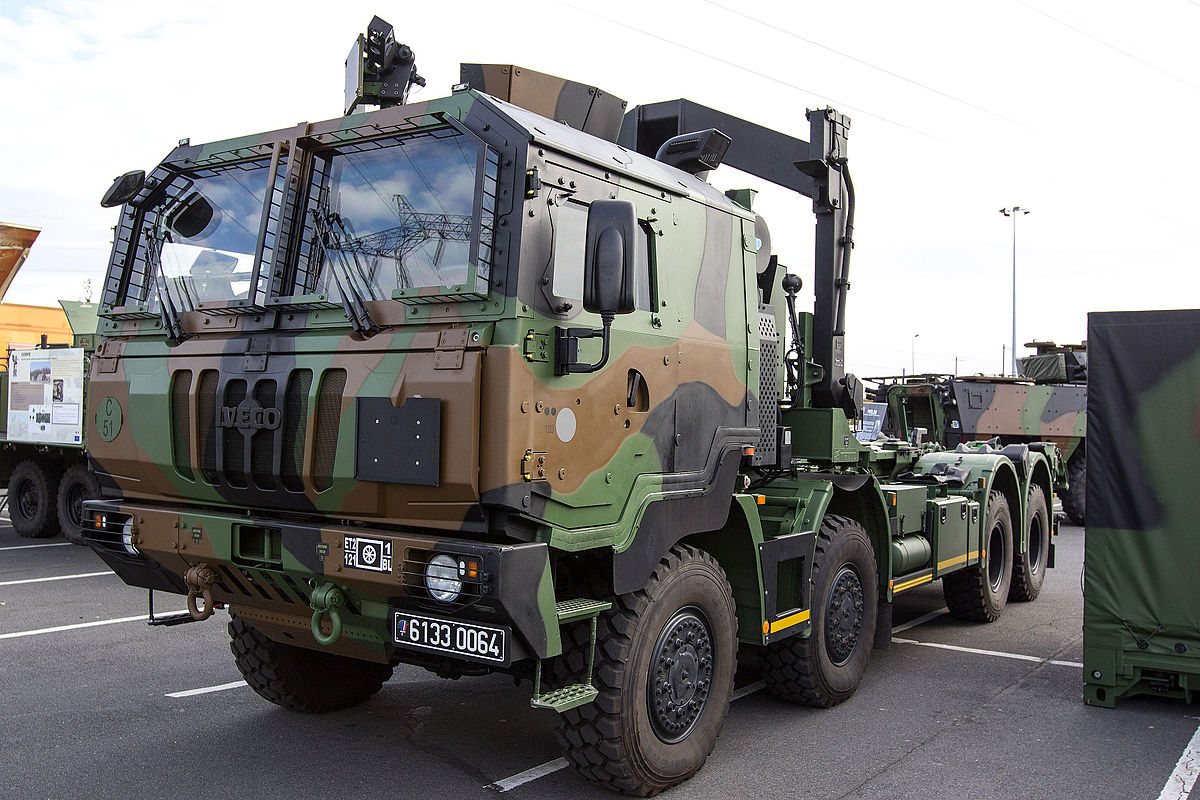license_plate: (394, 611, 510, 667)
